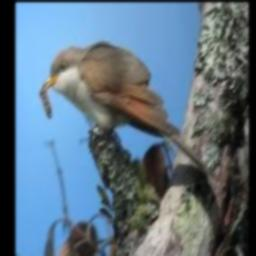Cuckoo: (43, 42, 208, 174)
